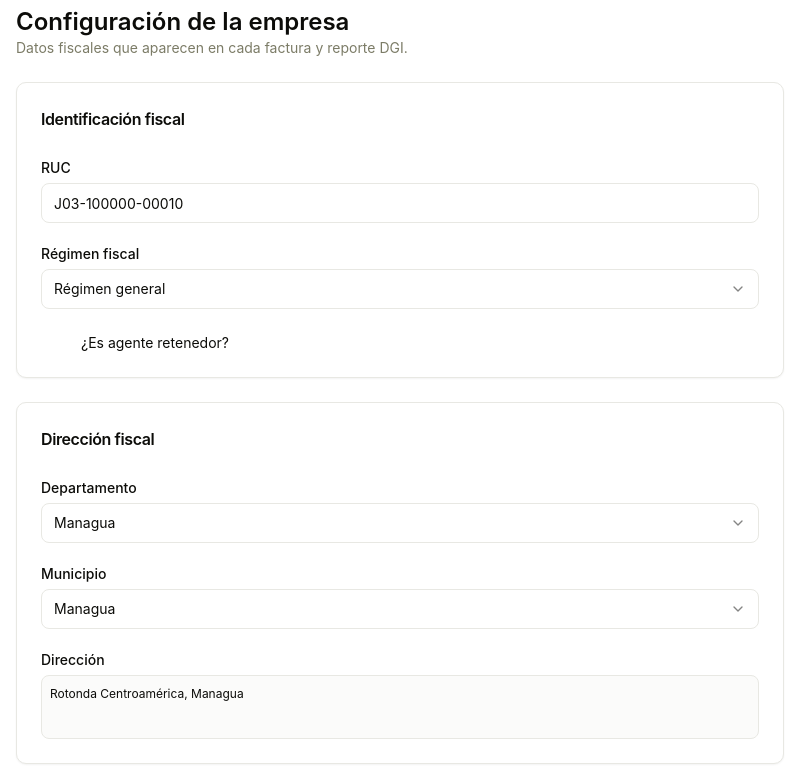
EmpresaFiscalSettingsForm — RUC validation › blocks save when the RUC is empty
This screenshot has width=801, height=784.
Clear the field labelled "RUC". click: (400, 203)
box: [41,183,759,223]
(page scrolled)
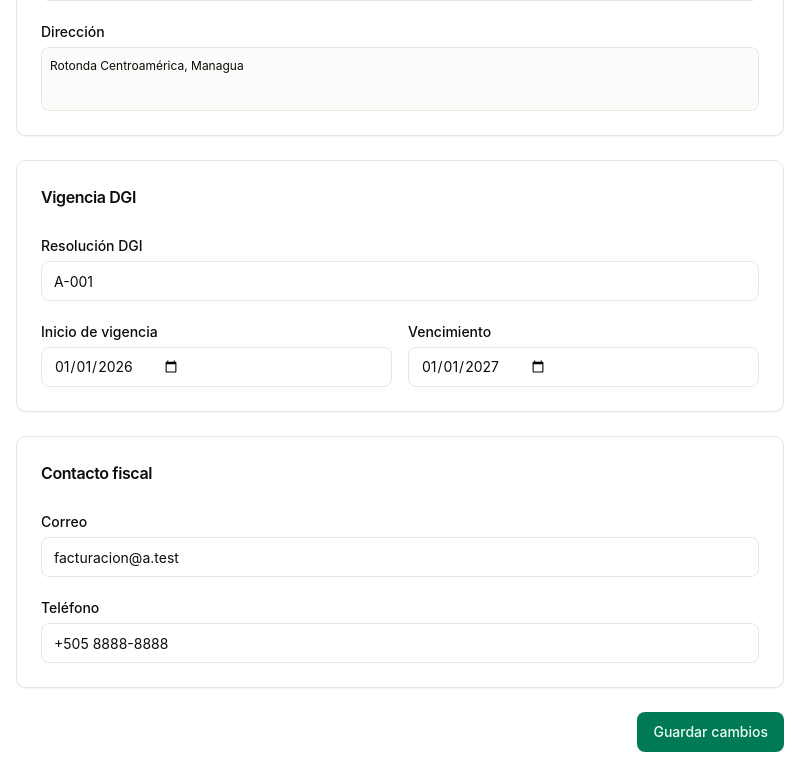
Click the button "Guardar cambios". click: (711, 732)
box: [638,712,784,752]
(page scrolled)
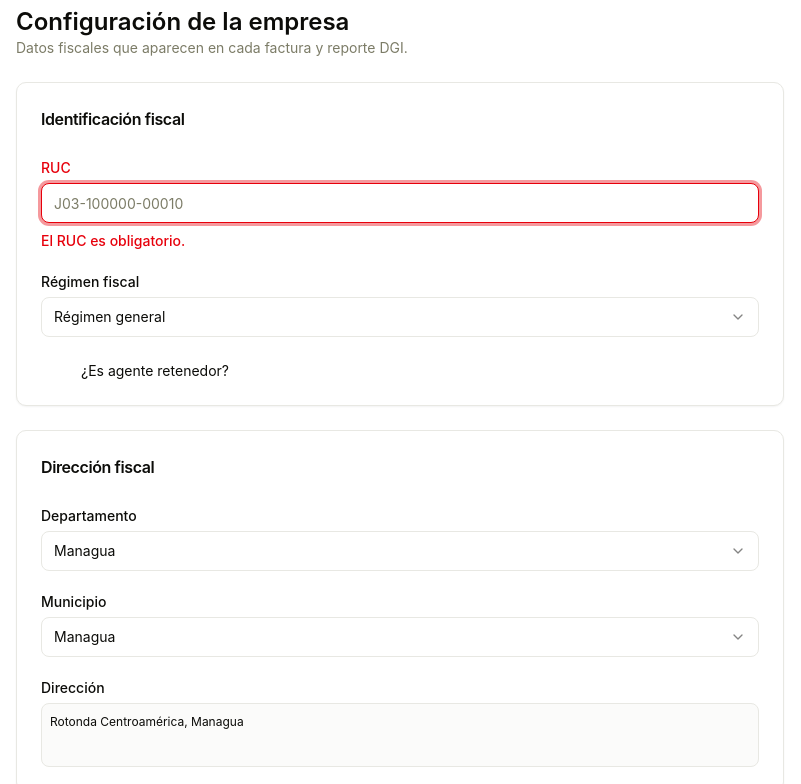
expect the text "El RUC es obligatorio." is shown: met, box [41,232,185,249]
